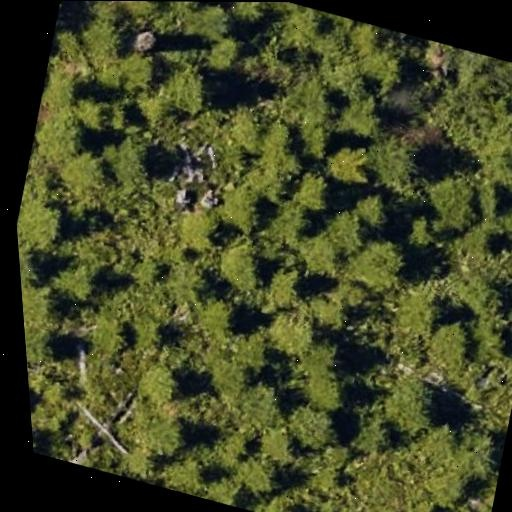tree-top: (369, 360, 452, 442), (416, 162, 495, 237), (338, 226, 413, 300), (88, 123, 164, 196), (356, 125, 432, 197), (67, 0, 145, 68), (440, 409, 512, 482), (147, 51, 220, 122), (47, 137, 120, 207), (337, 18, 413, 84), (379, 272, 450, 342), (417, 309, 486, 379), (124, 396, 198, 461), (277, 65, 348, 132), (125, 350, 194, 416), (342, 171, 412, 236), (332, 393, 402, 458), (273, 393, 344, 457), (206, 227, 275, 291), (21, 290, 74, 373), (14, 188, 76, 256), (326, 80, 392, 142), (315, 132, 382, 193), (78, 298, 142, 360), (261, 299, 323, 360), (209, 175, 271, 235), (168, 197, 230, 257), (264, 2, 331, 56), (230, 370, 291, 429), (187, 288, 249, 345), (293, 225, 354, 282), (240, 426, 298, 485), (253, 257, 312, 314), (284, 162, 341, 218), (44, 250, 103, 304), (316, 205, 370, 257), (61, 85, 115, 137), (178, 1, 234, 47), (461, 274, 512, 321), (347, 183, 396, 230), (201, 467, 249, 509), (400, 210, 444, 255), (485, 174, 512, 247), (17, 235, 49, 293), (470, 319, 512, 363), (75, 449, 136, 479), (255, 483, 301, 512), (224, 2, 272, 28), (311, 9, 358, 33), (30, 406, 49, 454), (156, 1, 207, 17)
